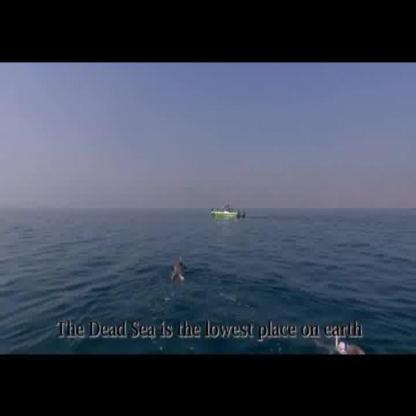Boat: (210, 202, 245, 223)
